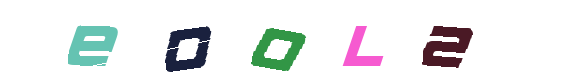0: (245, 0, 325, 80)
2: (320, 0, 400, 80)
E: (66, 0, 146, 80)
L: (283, 0, 363, 80)
O: (237, 0, 317, 80)
